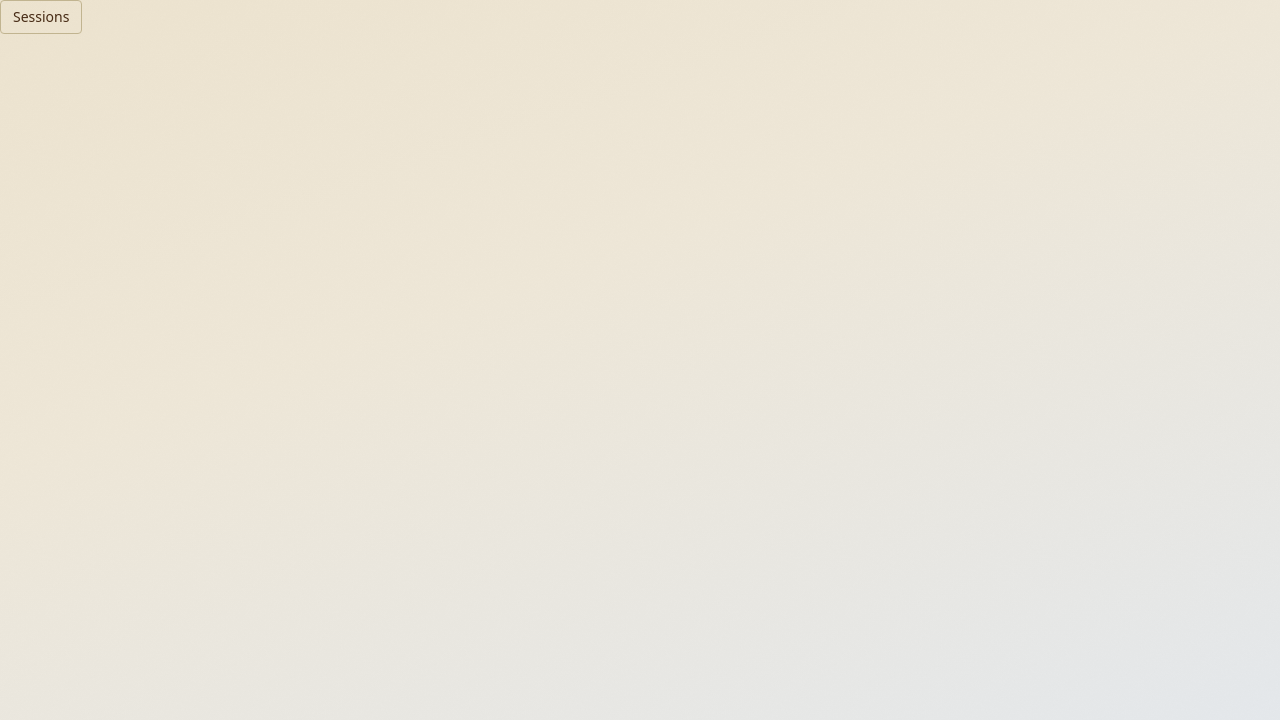
Test: SessionsDrawer › empty store shows 'No sessions yet.' inside drawer
Click the button with test id "sessions-drawer-trigger" at (41, 17), box [0,0,82,34]
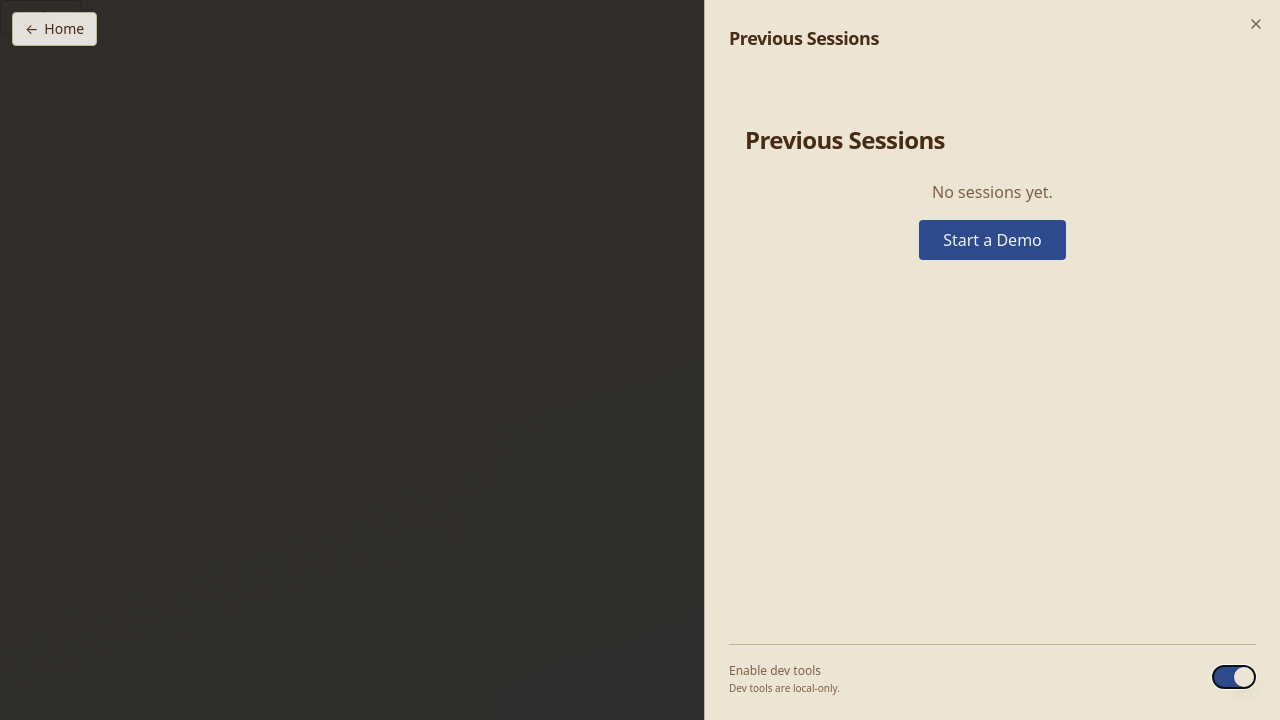
Expected: the text "No sessions yet." is shown, [932,181,1053,203]
